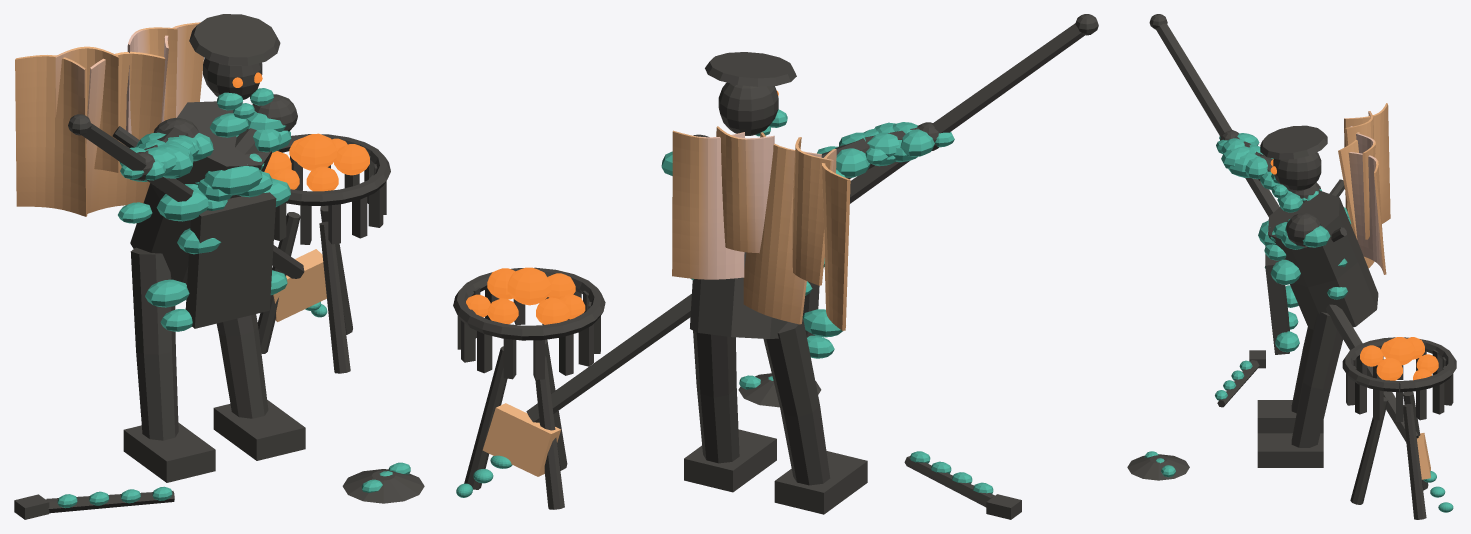
The model's file is greener.glb.
The picture shows the model from 3 angles, left to right: view 1: azimuth 30°, elevation 25°; view 2: azimuth 150°, elevation 25°; view 3: azimuth 270°, elevation 25°; orthographic projection. The views are drawn at different scales.
Parts seen in each view (by area): view 1: greener_dark, greener_bone, greener_body, greener_glow; view 2: greener_dark, greener_bone, greener_body, greener_glow; view 3: greener_dark, greener_bone, greener_body, greener_glow.
Part boxes in pixels (x1,y1,x2,y2): greener_dark: [14, 14, 424, 519]; greener_bone: [15, 22, 326, 321]; greener_body: [57, 88, 410, 508]; greener_glow: [232, 72, 369, 191]; greener_dark: [453, 14, 1098, 519]; greener_bone: [482, 126, 850, 476]; greener_body: [456, 109, 993, 497]; greener_glow: [466, 90, 778, 324]; greener_dark: [1127, 14, 1456, 519]; greener_bone: [1338, 103, 1430, 479]; greener_body: [1144, 133, 1453, 512]; greener_glow: [1270, 159, 1438, 380].
Bounding box in the file's own units: 2.71 × 2.5 × 2.16.
